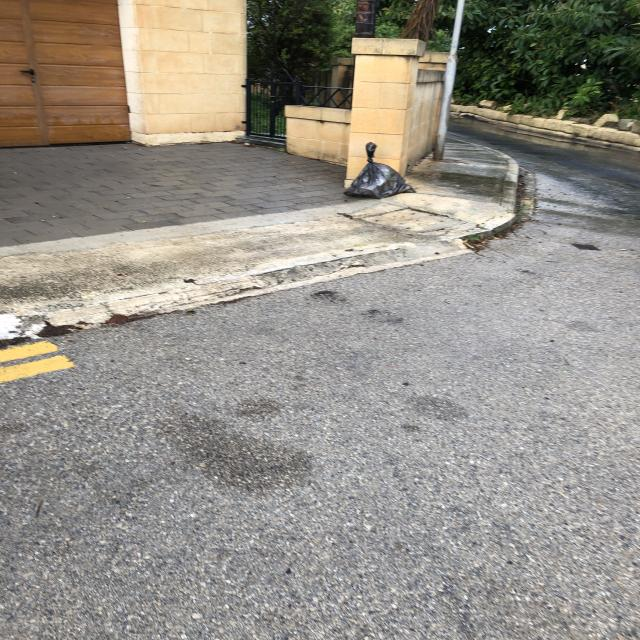Mixed Waste -Black Bag-: (347, 143, 411, 201)
